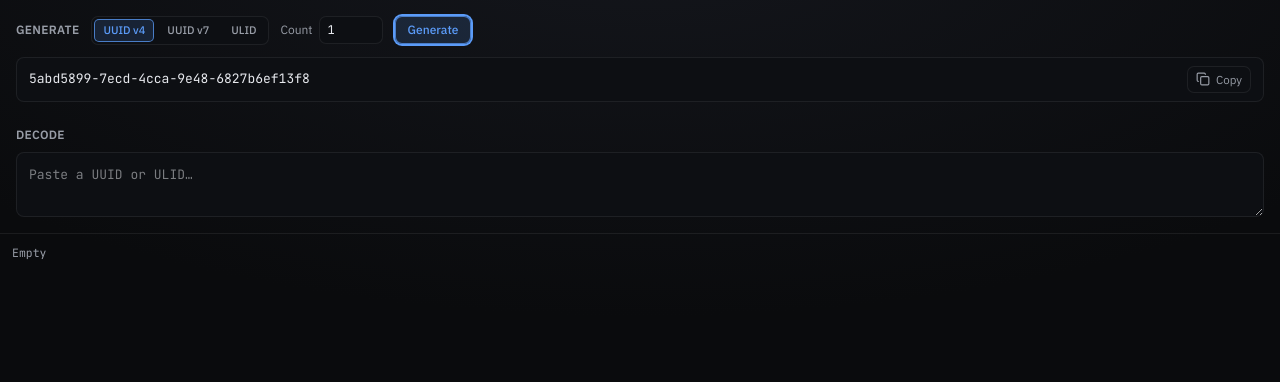
it: UuidUlidTool › a batch count of 3 renders 3 entries each with its own copy + a copy-all
The width and height of the screenshot is (1280, 382).
Replace the text in the number field with id "uuid-ulid-count" with "3" at x=351, y=30, box [319,16,383,44]
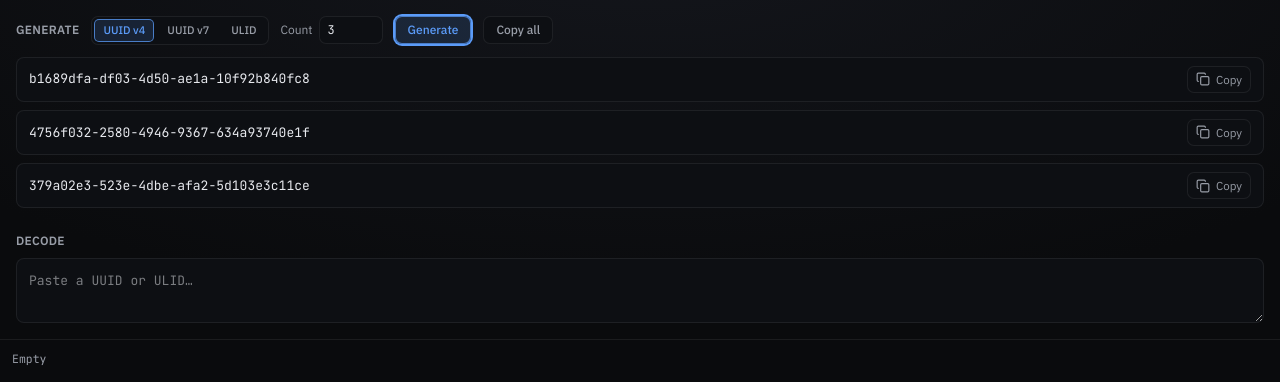
Check: the button "Copy all" is shown, box [483,16,553,44]
